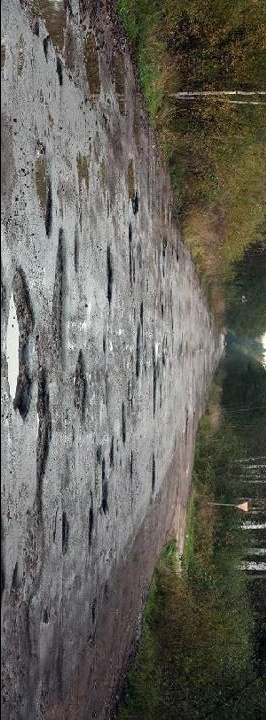pothole: (0, 558, 35, 719), (5, 261, 37, 419), (18, 0, 73, 88), (52, 226, 68, 383), (29, 142, 54, 239), (74, 346, 88, 428), (126, 157, 140, 216), (96, 457, 109, 514), (105, 242, 115, 305), (57, 511, 70, 557), (132, 325, 143, 377), (84, 500, 95, 546)
